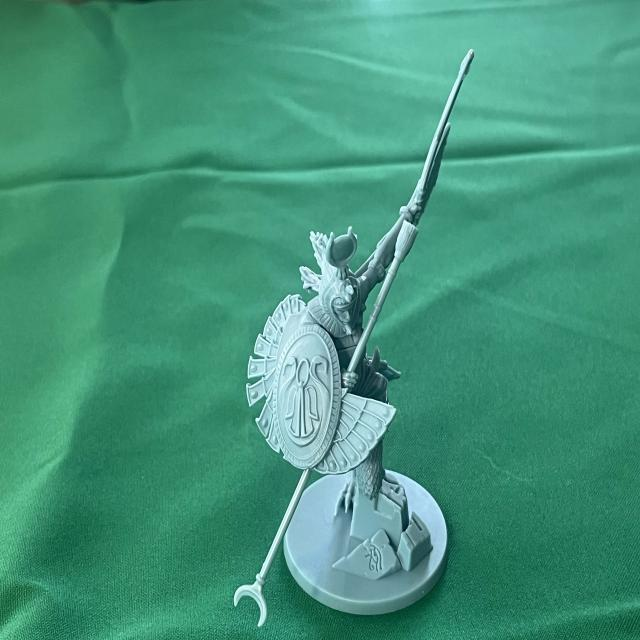isis: (218, 42, 492, 639)
